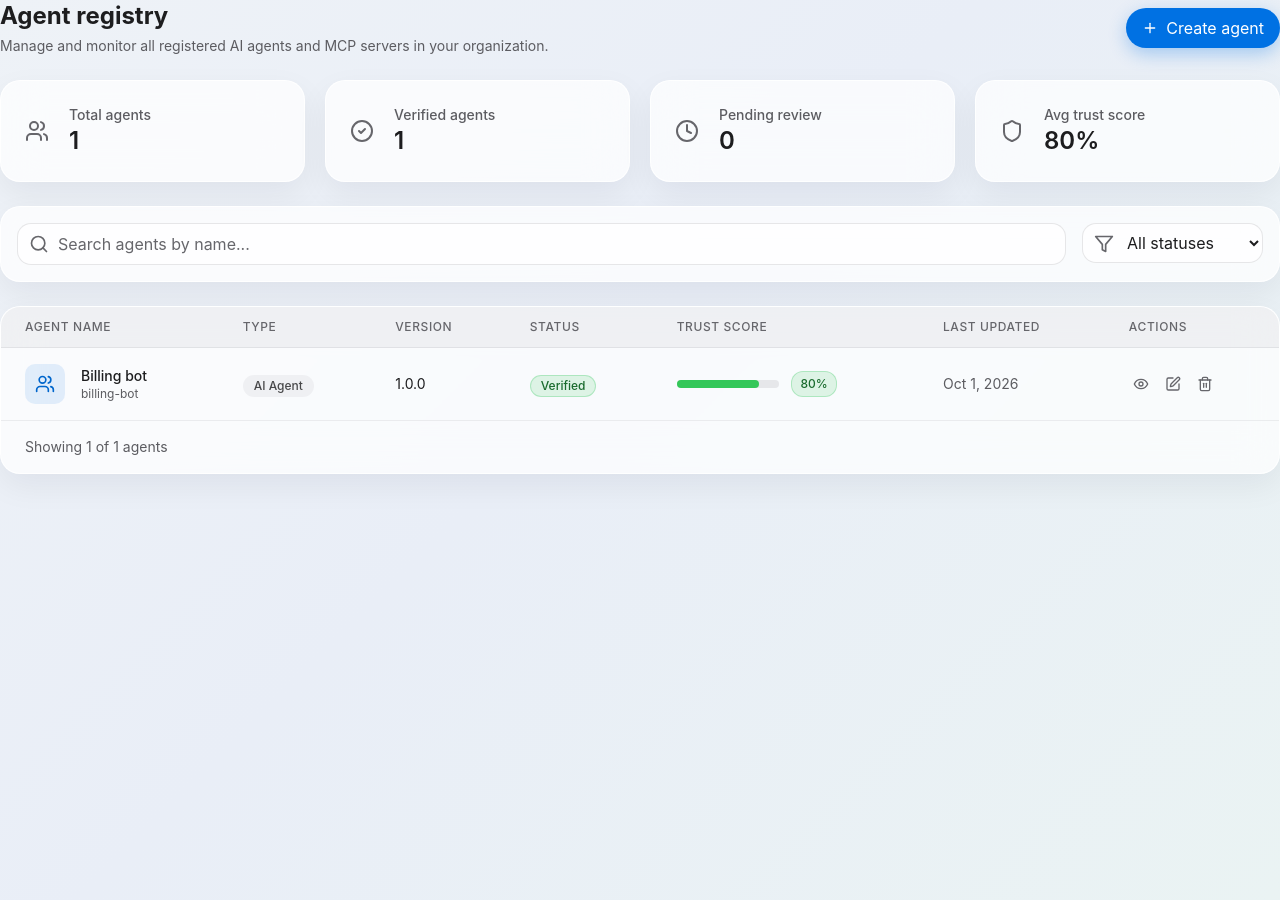
Test case: agents list: delete › removes the agent and states that it was deleted after a success
Click the button titled "Delete agent": (1205, 384) [1193,372,1217,396]
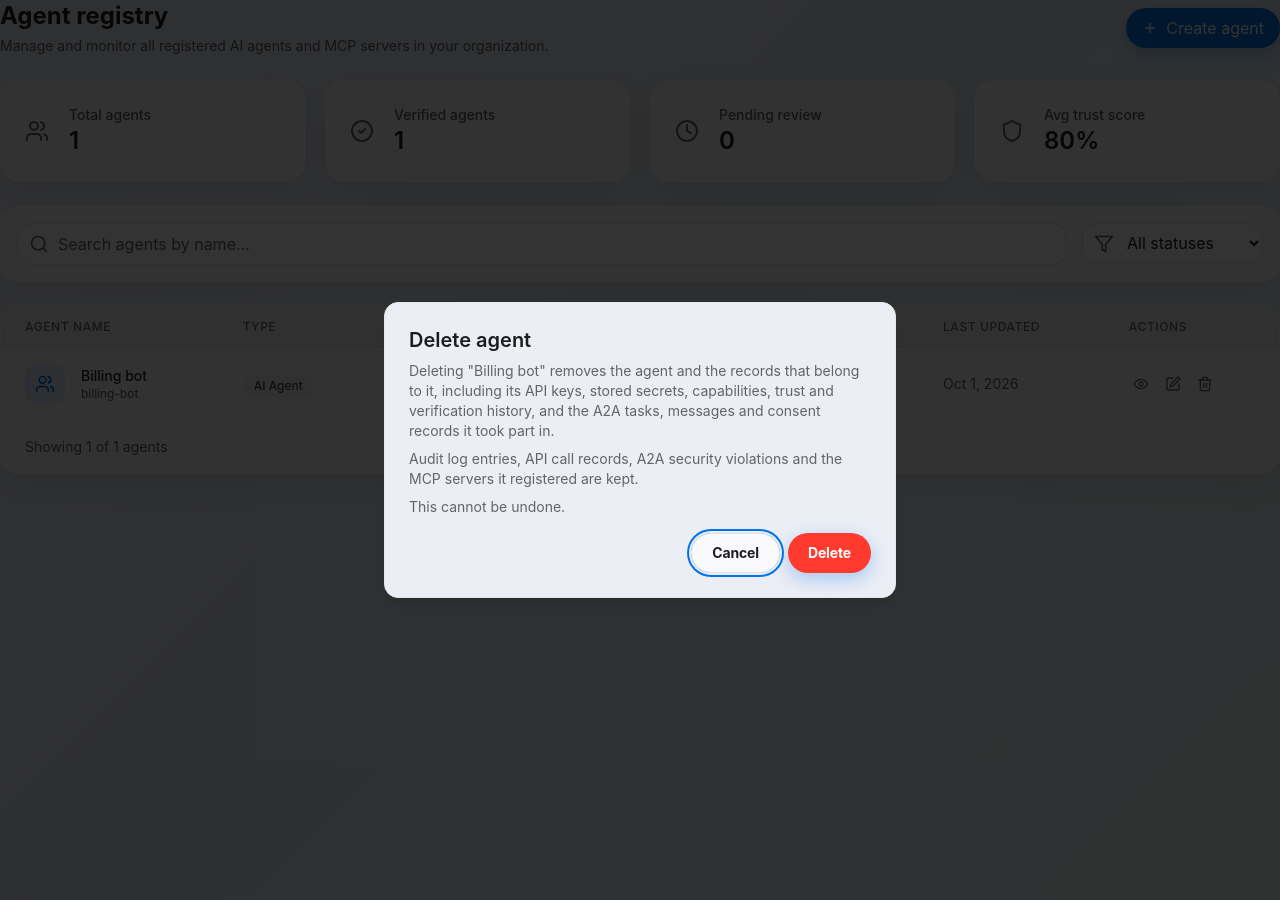
Click the button "Delete": (829, 553) [788,533,871,573]
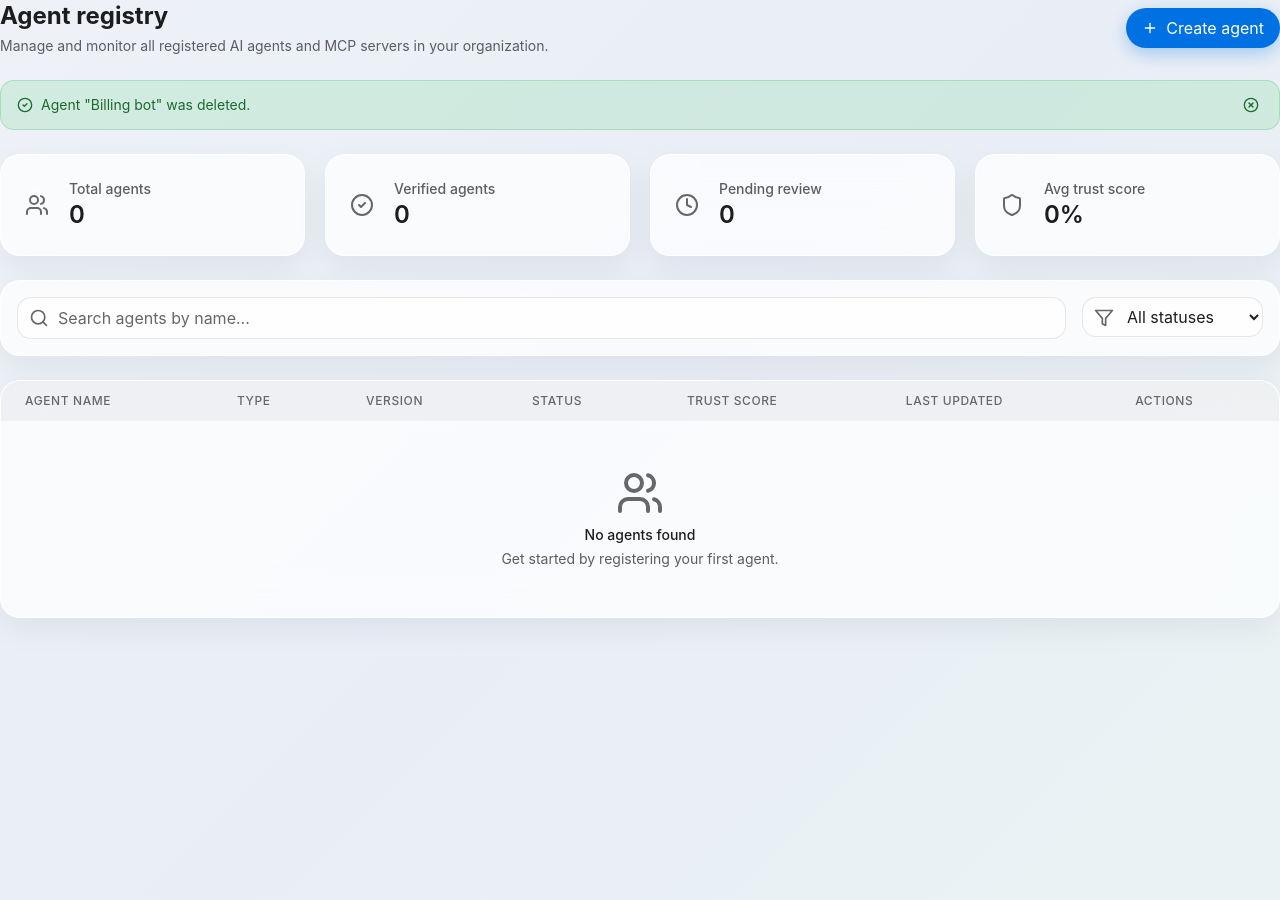
Now the dialog is gone
Now no headings titled "Delete agent" are shown
